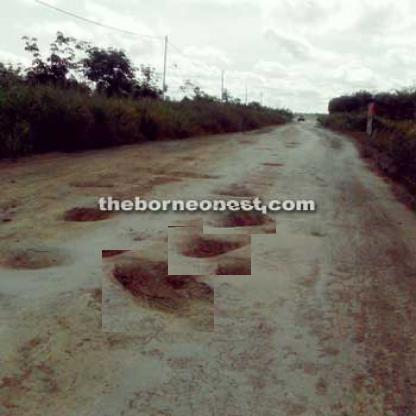pothole: (102, 250, 215, 333), (168, 226, 252, 276), (203, 206, 277, 235), (56, 200, 121, 224)
